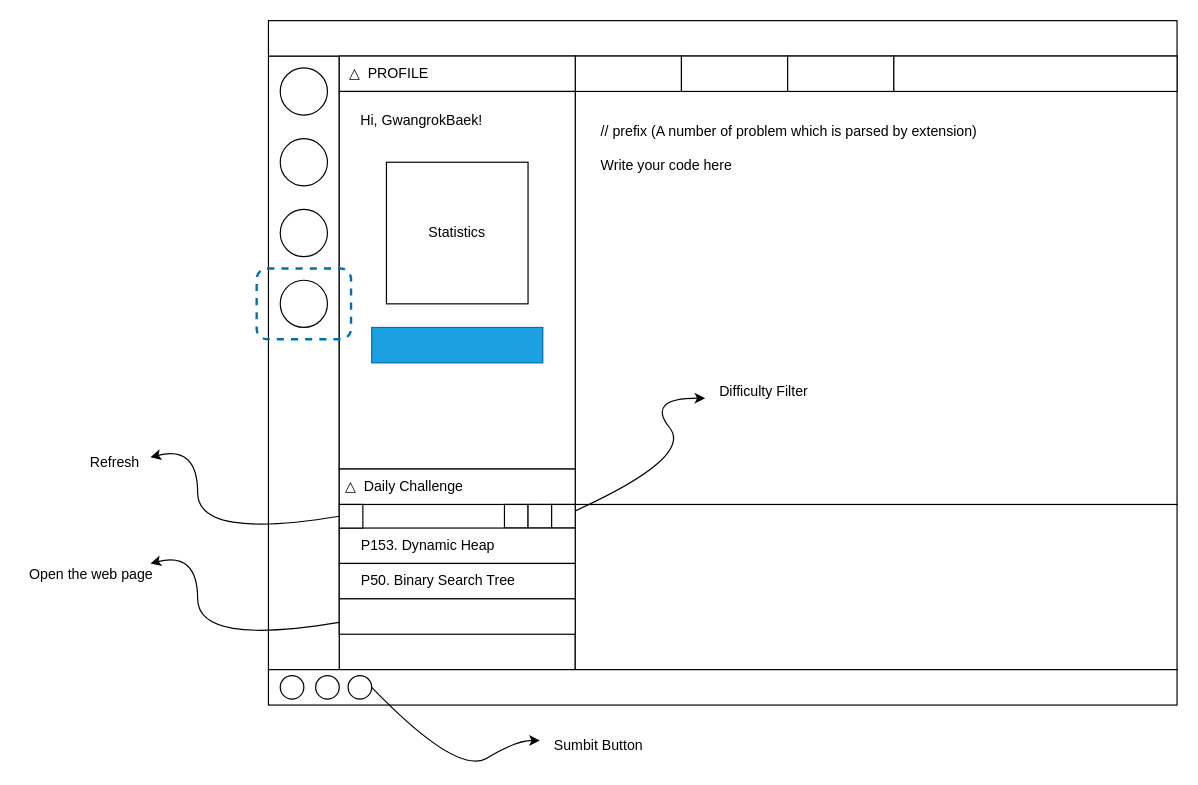
The diagram is 1198 pixels wide and 785 high, and some of its shapes have lost their labels. Each missing label, with the centre of its shape:
Logout: the point at 457,344
P823. Queue: the point at 456,616
Submit Result will be displayed here: the point at 875,586
